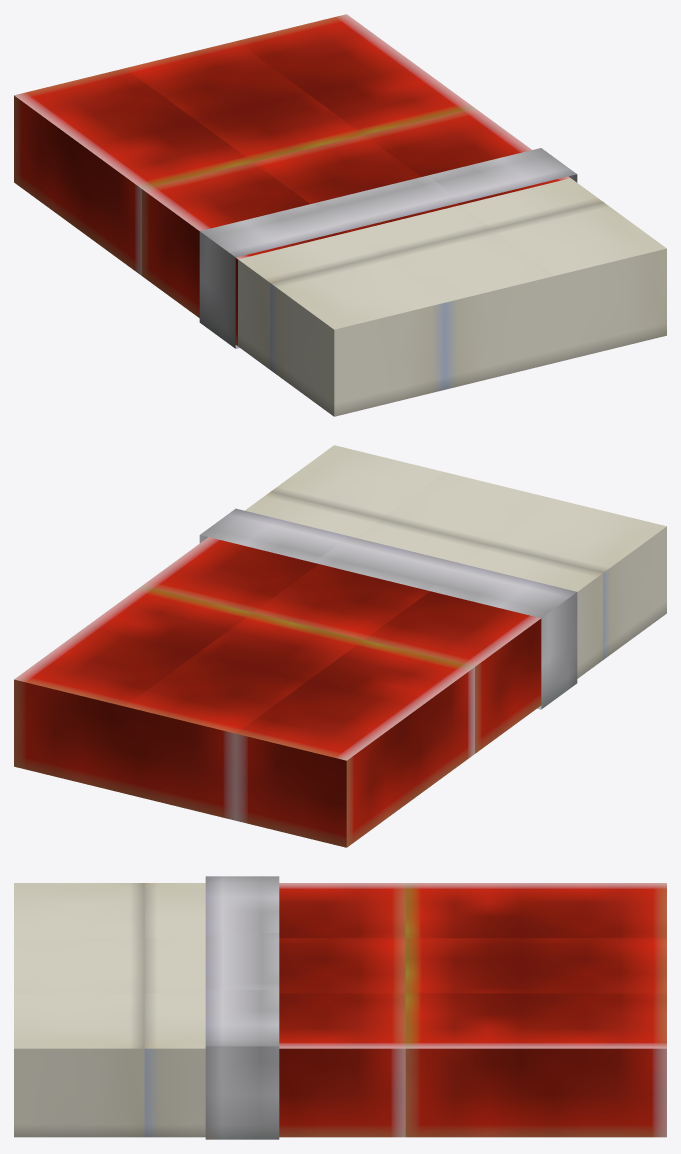
The model's file is Bed_Block.fbx.
The picture shows the model from 3 angles, top to bottom: view 1: azimuth 30°, elevation 25°; view 2: azimuth 150°, elevation 25°; view 3: azimuth 270°, elevation 25°; orthographic projection.
Parts seen in each view (by area): view 1: Bed_Block; view 2: Bed_Block; view 3: Bed_Block.
Boxes of the visible parts, <box> form: Bed_Block: <box>14,14,666,416</box>; Bed_Block: <box>14,445,666,847</box>; Bed_Block: <box>14,876,666,1139</box>.
Size of the model in its own units: 38.47 by 9.85 by 62.5.
Materials: 1 (1 with a texture image).
